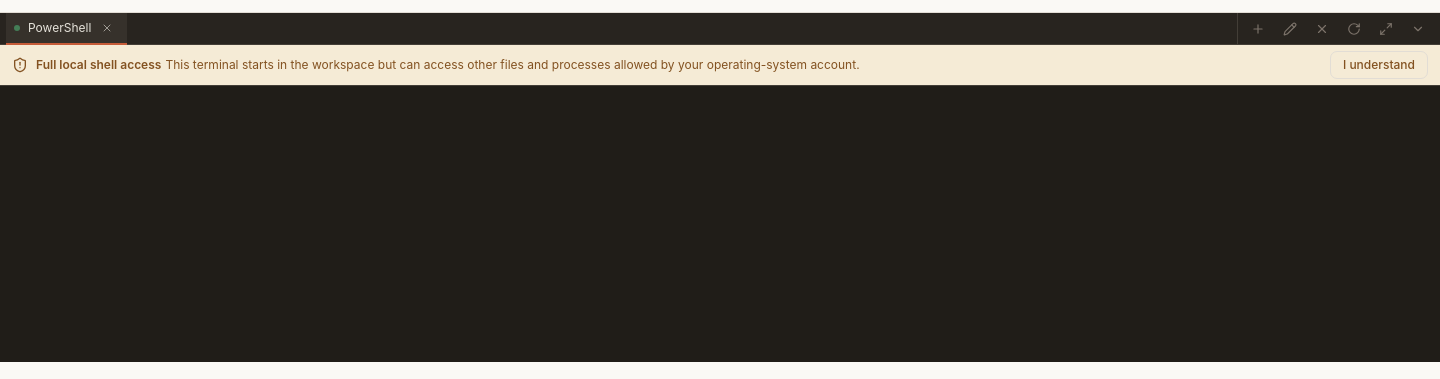
Test case: TerminalDock › supports inline rename from the toolbar and tab double click
The image size is (1440, 379).
Click the button named "Rename terminal" at (1290, 28), box [1274,12,1306,44]
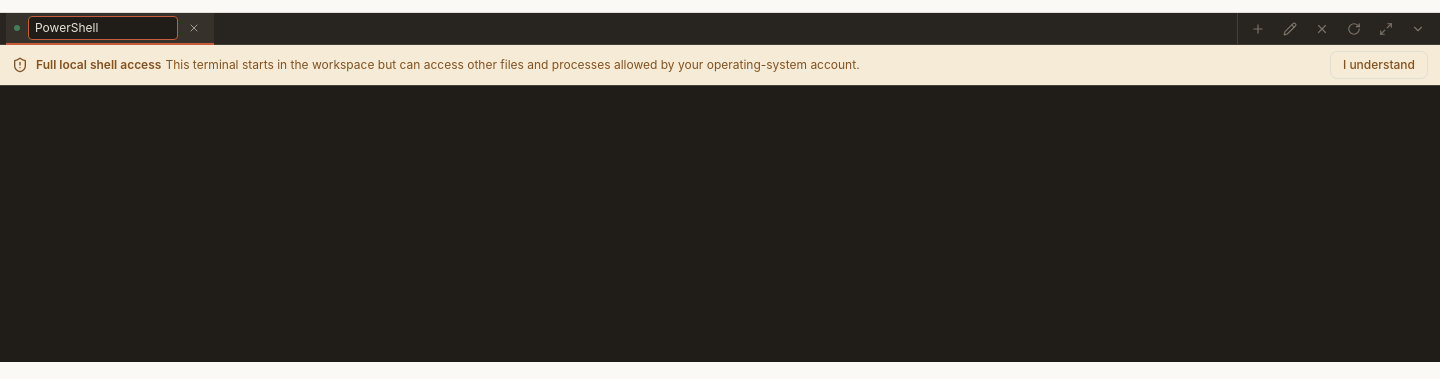
Replace the text in the field named "Rename terminal" with "Build shell" at (103, 28), box [28,16,178,40]
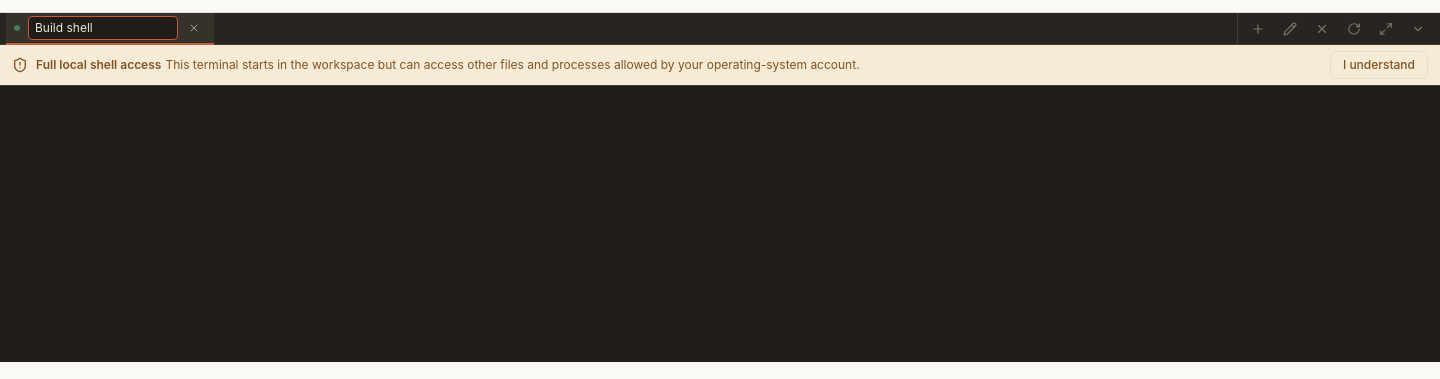
Press Enter in the field named "Rename terminal", box [28,16,178,40]
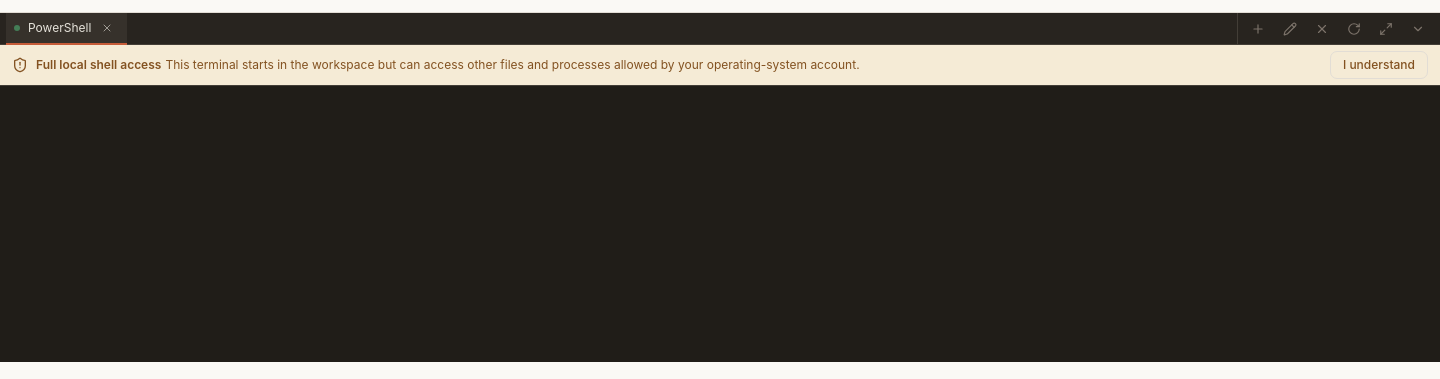
Double-click the tab "PowerShell" at (60, 28), box [28,20,91,36]
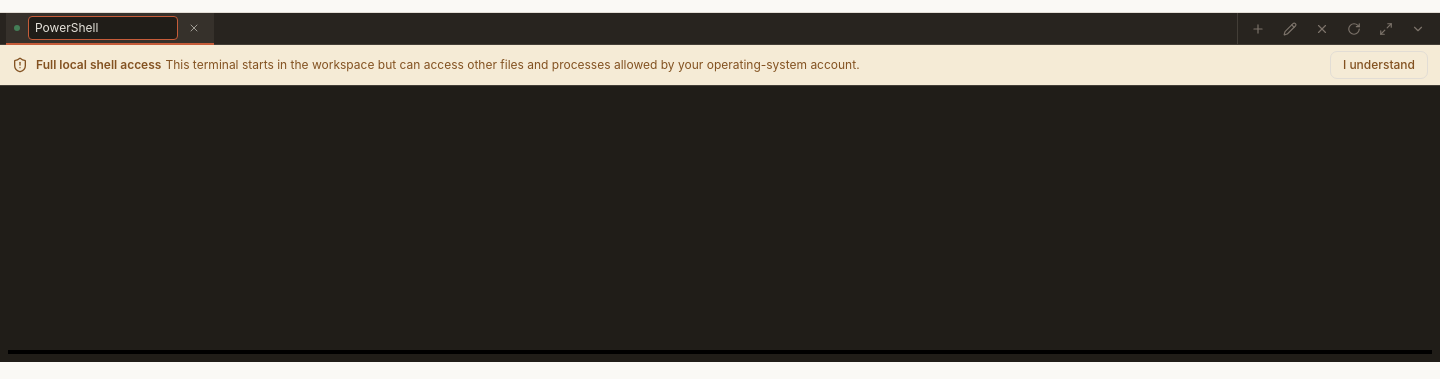
Check: the field named "Rename terminal" is shown, box [28,16,178,40]
